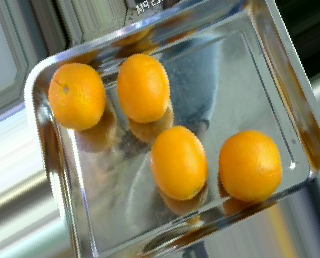Orange: (218, 130, 284, 202), (150, 124, 207, 200), (47, 61, 106, 131), (115, 52, 170, 122)
